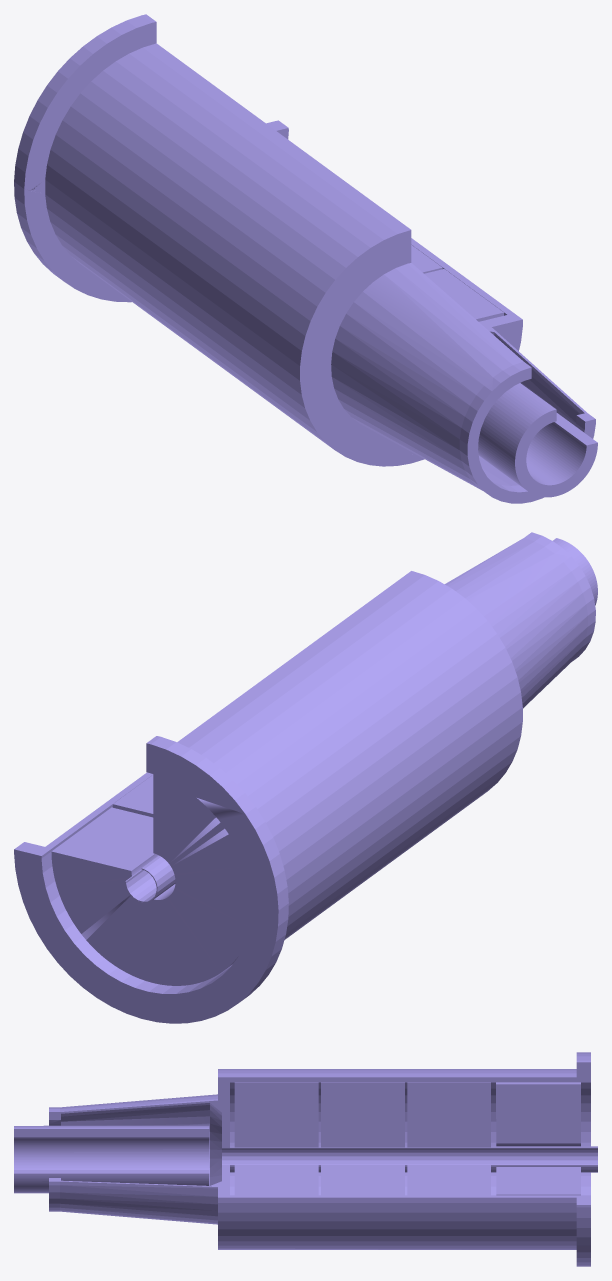
The model's file is Lar-FCAL-SideC-cut3.glb.
3 views of the same model, one above another, from view 1: azimuth 30°, elevation 25°; view 2: azimuth 150°, elevation 25°; view 3: azimuth 270°, elevation 25° (orthographic). The views are drawn at different scales.
Parts seen in each view (by area): view 1: null.004; view 2: null.004; view 3: null.004.
Boxes of the visible parts, box(x1,y1,x2,y2) form: null.004: box(14, 14, 597, 503); null.004: box(14, 532, 597, 1023); null.004: box(14, 1052, 597, 1266).
Bounding box in the file's own units: 1.14 × 1.14 × 3.1.
